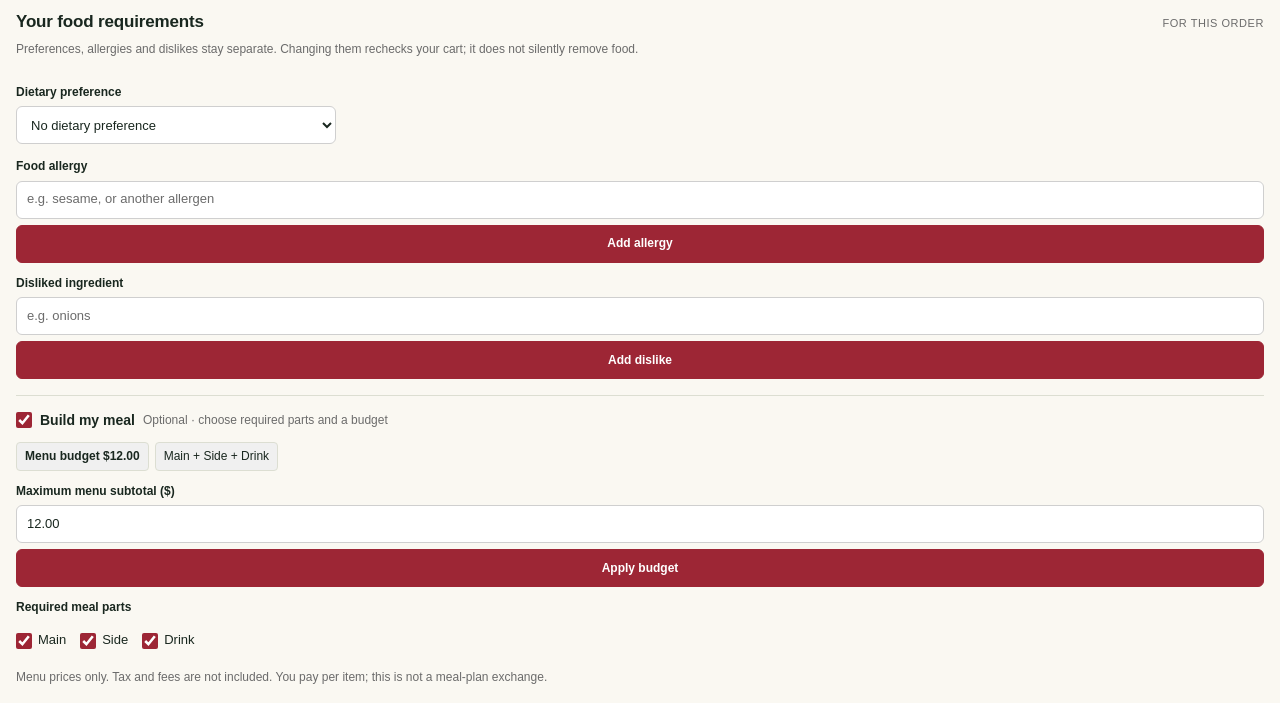
it: persistent requirements controls › converts a decimal budget exactly and rejects fractional cents
Replace the text in the field with test id "meal-budget" with "12.35" at x=640, y=524, box x1=16 y1=505 x2=1264 y2=543
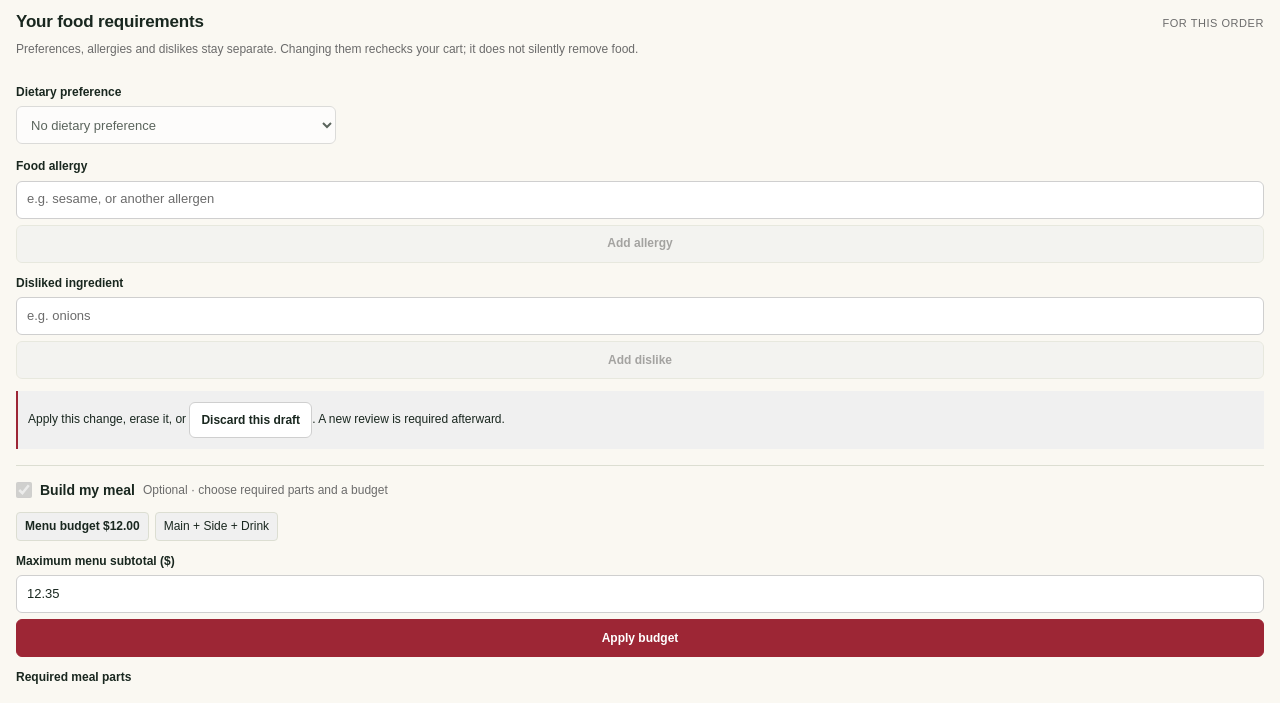
Click the button with test id "apply-budget" at x=640, y=638, box x1=16 y1=619 x2=1264 y2=657
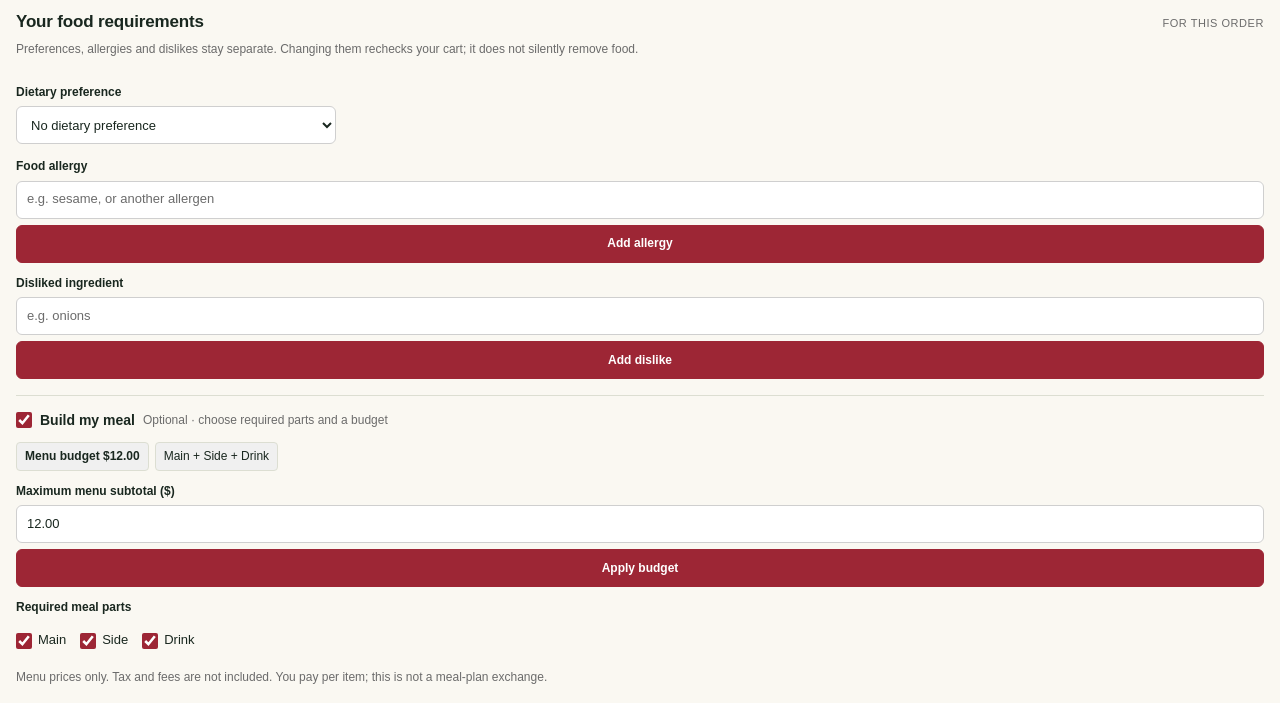
Replace the text in the field with test id "meal-budget" with "12.355" at x=640, y=524, box x1=16 y1=505 x2=1264 y2=543
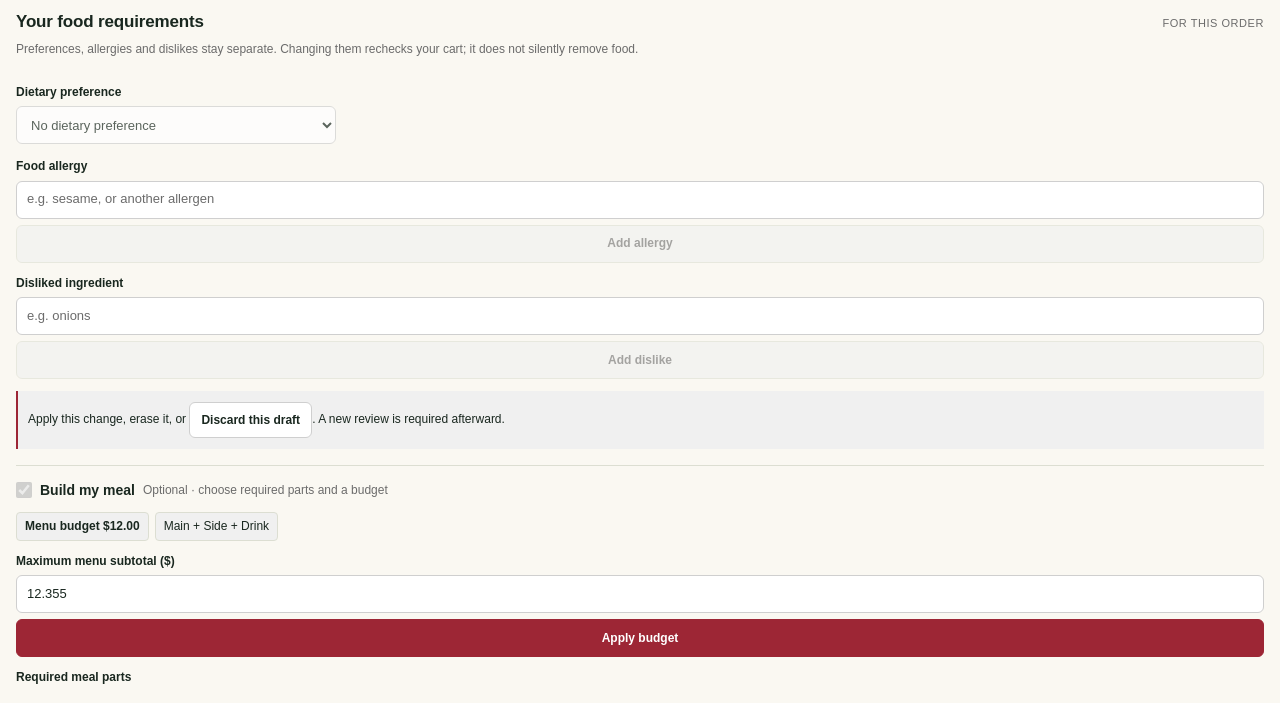
Click the button with test id "apply-budget" at x=640, y=638, box x1=16 y1=619 x2=1264 y2=657
(page scrolled)
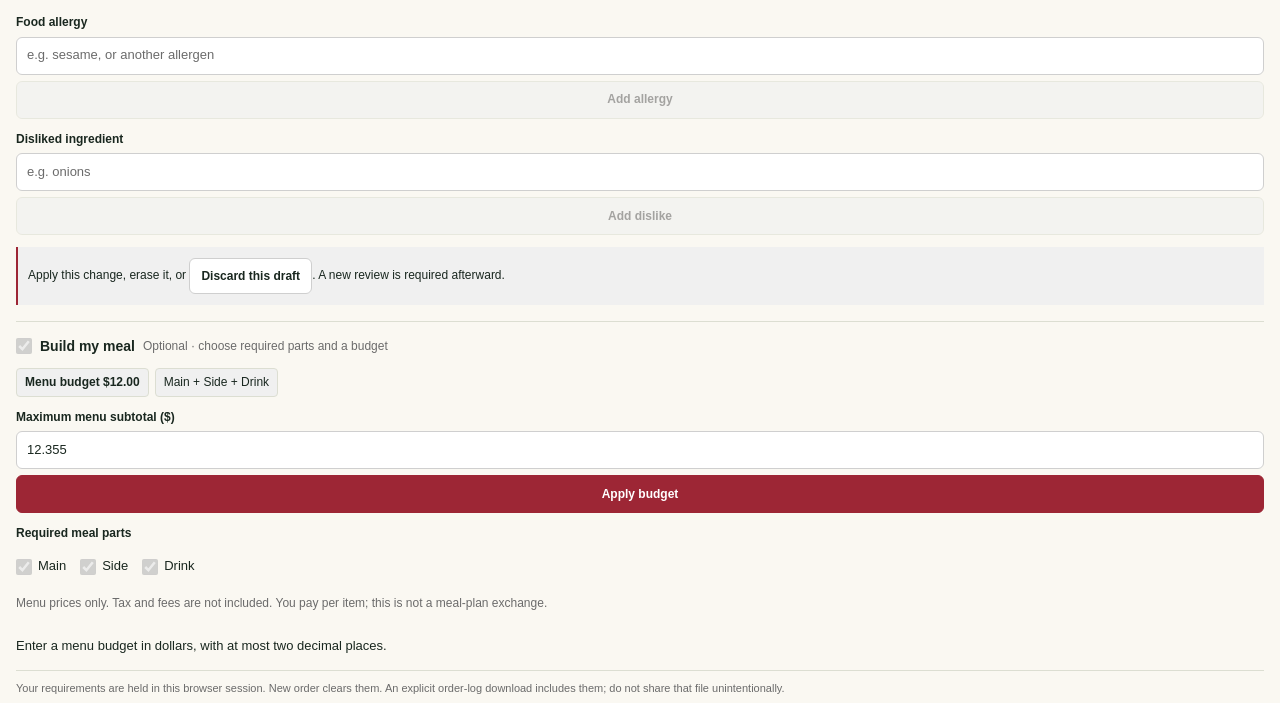
Result: the message shows "two decimal places" at x1=16 y1=638 x2=387 y2=653
